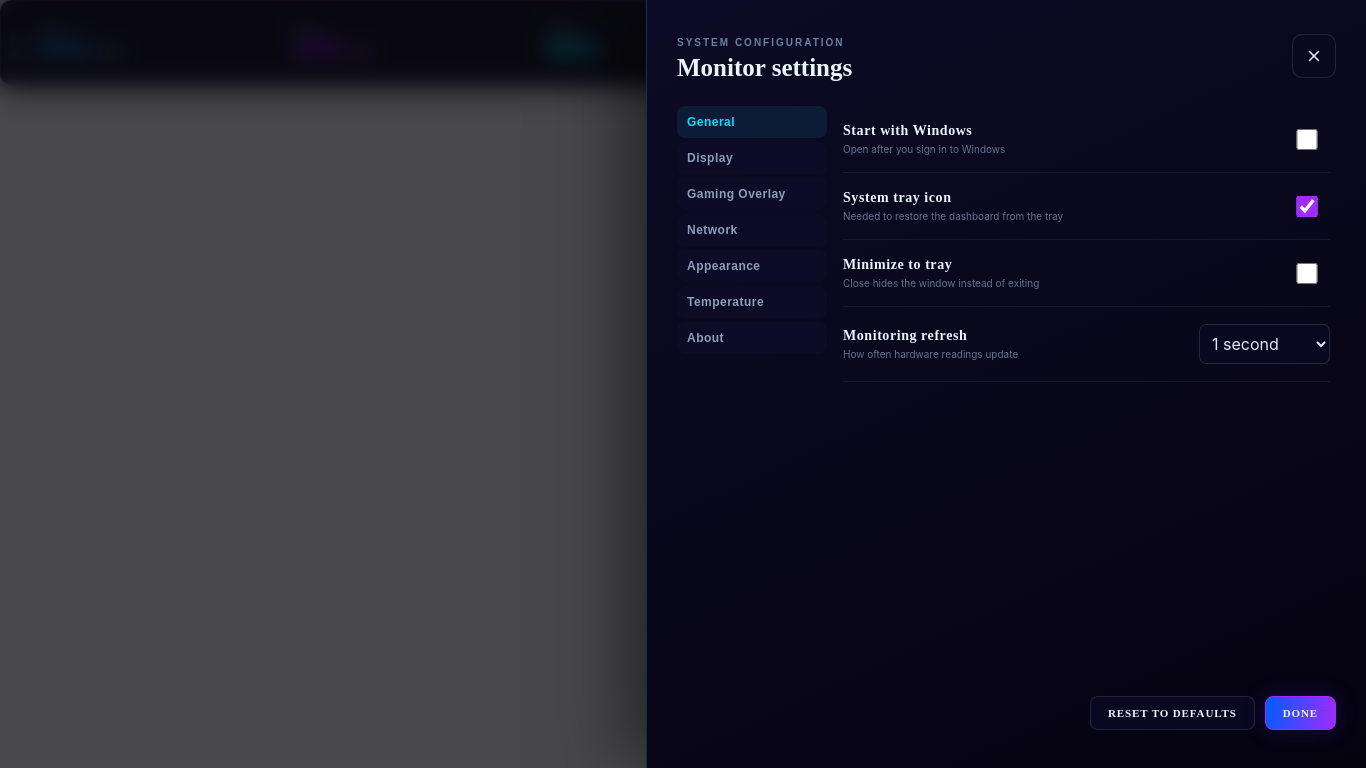
Test case: telemetry components › does not stack a second overlay settings strip under Monitor settings
This screenshot has width=1366, height=768.
Expected: the dialog "Monitor settings" is shown, [646,0,1365,767]
Click the button "Gaming Overlay" at (752, 194), box [677,178,827,210]
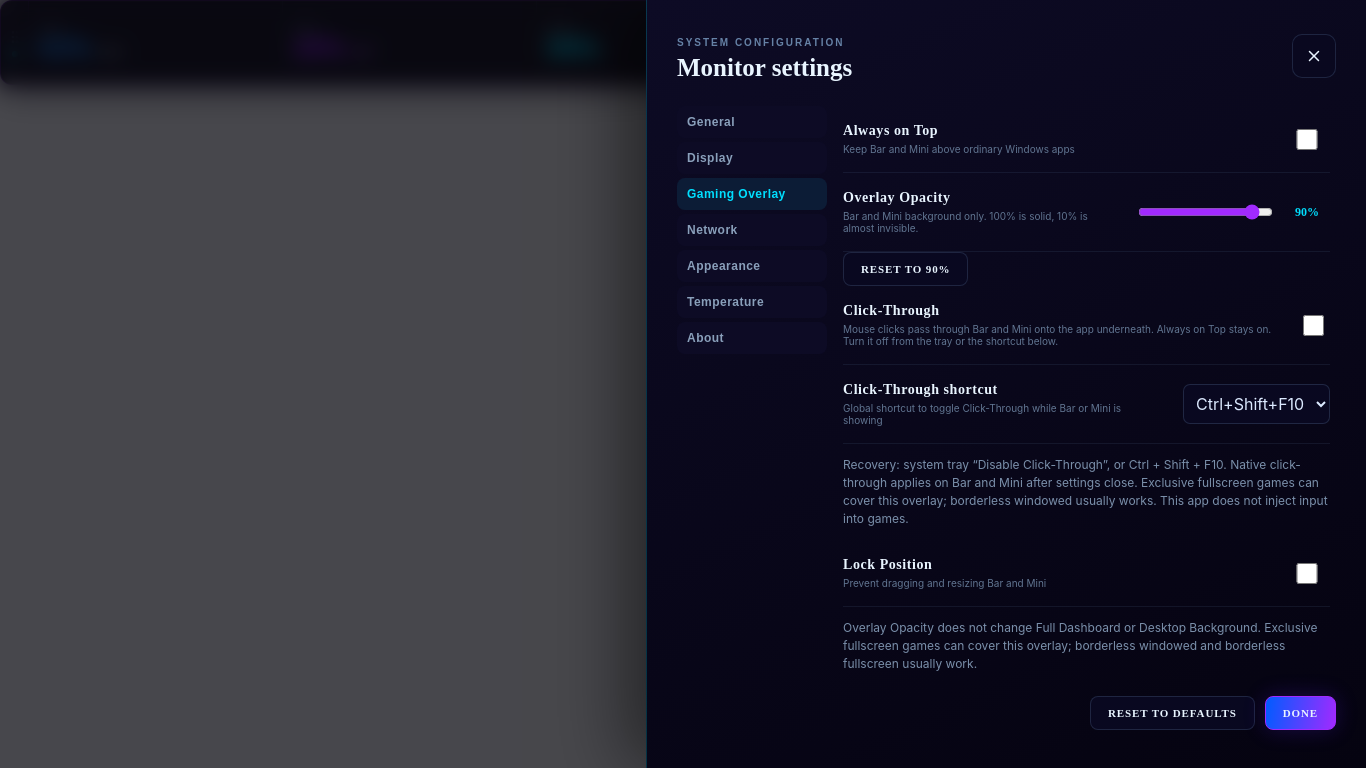
Expected: the slider labelled "Overlay Opacity" holds "90", [1138,204,1273,220]
Expected: the checkbox labelled "Click-Through" is shown, [1300,314,1327,336]
Expected: the button "Reset to 90%" is shown, [843,252,968,286]
